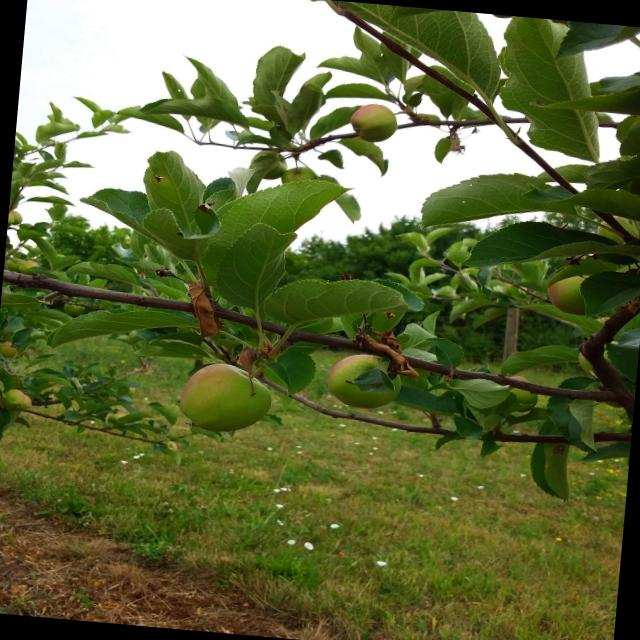-FireBlight-: (362, 319, 412, 381), (190, 280, 222, 330)
